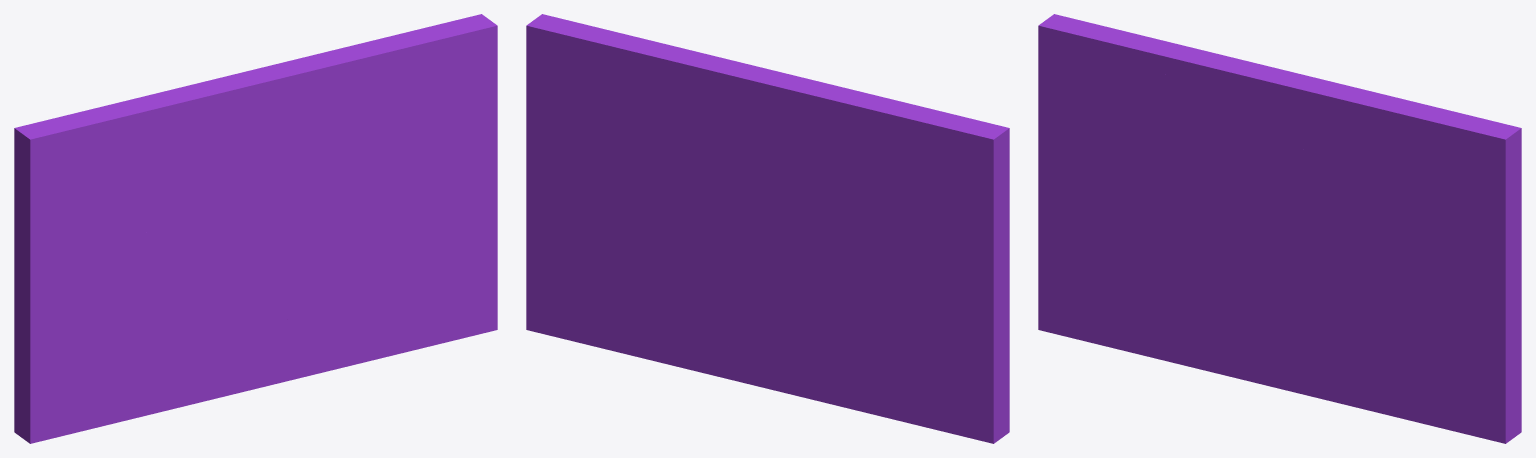
File: Barrier_29_chunks.fbx
3 renders of one model, left to right at view 1: azimuth 30°, elevation 25°; view 2: azimuth 150°, elevation 25°; view 3: azimuth 330°, elevation 25°, orthographic.
Visible parts, largest first — view 1: Barrier_29_1, Barrier_29_2, Barrier_29_5, Barrier_29_6, Barrier_29_4; view 2: Barrier_29_1, Barrier_29_2, Barrier_29_5, Barrier_29_6, Barrier_29_3, Barrier_29_0, Barrier_29_4; view 3: Barrier_29_1, Barrier_29_2, Barrier_29_5, Barrier_29_6, Barrier_29_4.
Boxes of the visible parts, <box> form: Barrier_29_1: <box>265,14,497,376</box>; Barrier_29_2: <box>14,203,303,443</box>; Barrier_29_5: <box>14,97,188,233</box>; Barrier_29_6: <box>141,40,402,166</box>; Barrier_29_4: <box>158,115,354,240</box>; Barrier_29_1: <box>526,14,755,376</box>; Barrier_29_2: <box>719,214,1009,443</box>; Barrier_29_5: <box>835,100,1009,223</box>; Barrier_29_6: <box>634,37,893,144</box>; Barrier_29_3: <box>651,75,838,187</box>; Barrier_29_0: <box>686,124,852,248</box>; Barrier_29_4: <box>762,169,851,222</box>; Barrier_29_1: <box>1273,102,1521,443</box>; Barrier_29_2: <box>1038,112,1311,396</box>; Barrier_29_5: <box>1038,14,1197,181</box>; Barrier_29_6: <box>1154,45,1413,159</box>; Barrier_29_4: <box>1166,130,1362,240</box>.
Bounding box in the file's own units: 462 × 288 × 27.2.
